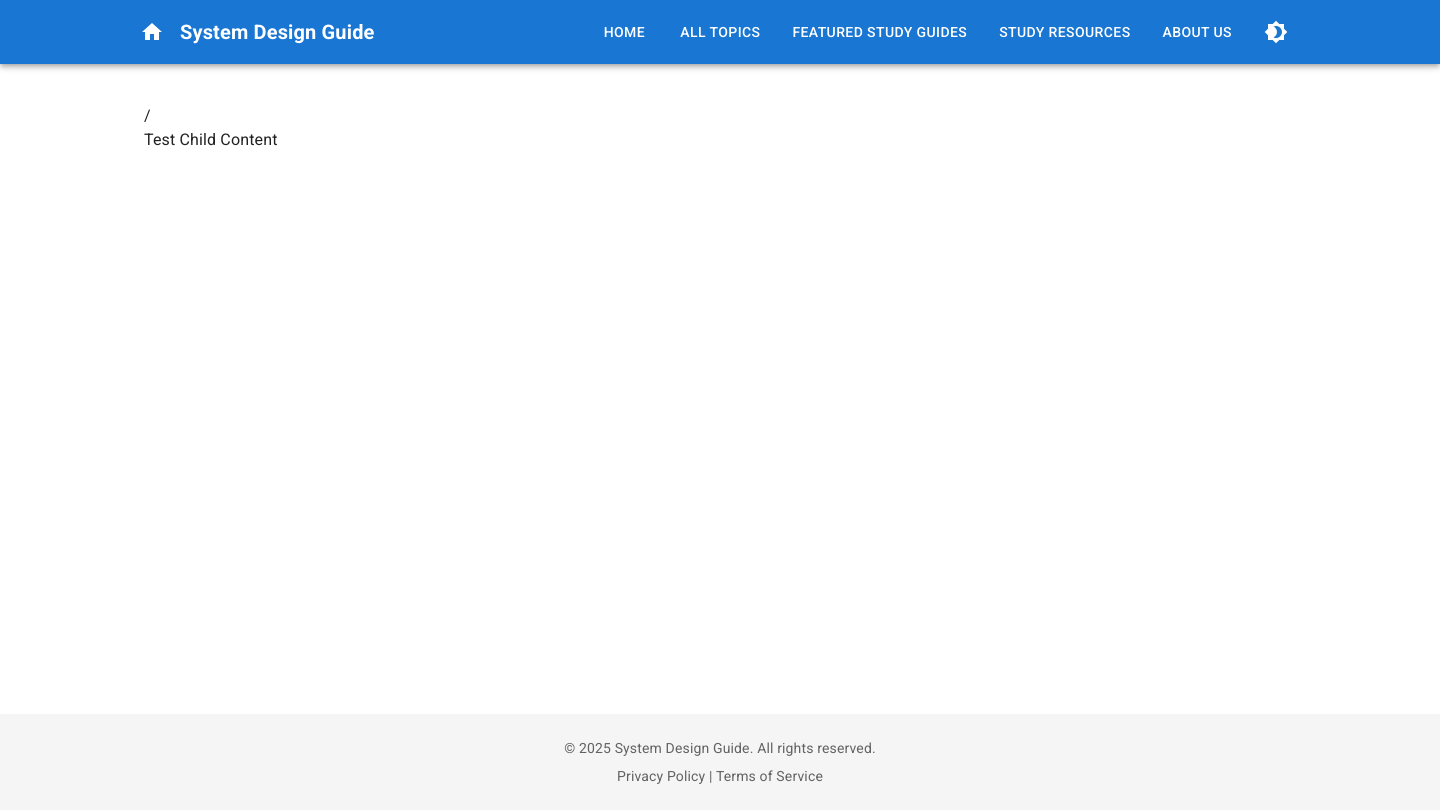
Test case: Layout Component - Navigation › navigates to an All Topics link with fragment (Client-Side Caching)
Click the button "All Topics" at (720, 32), box [672,14,768,50]
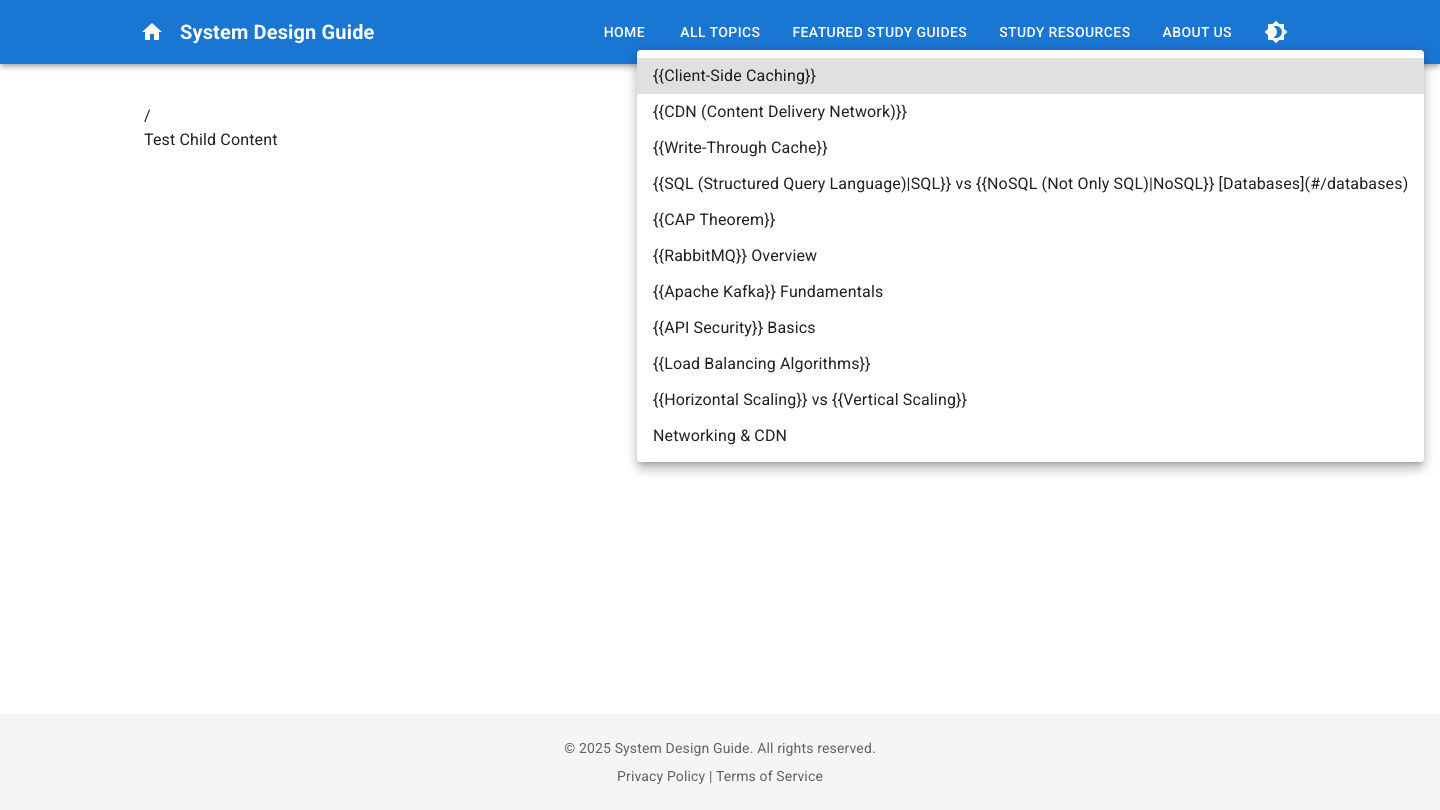
Click the menu item "{{Client-Side Caching}}" at (735, 76), box [637,58,1424,94]
(page scrolled)
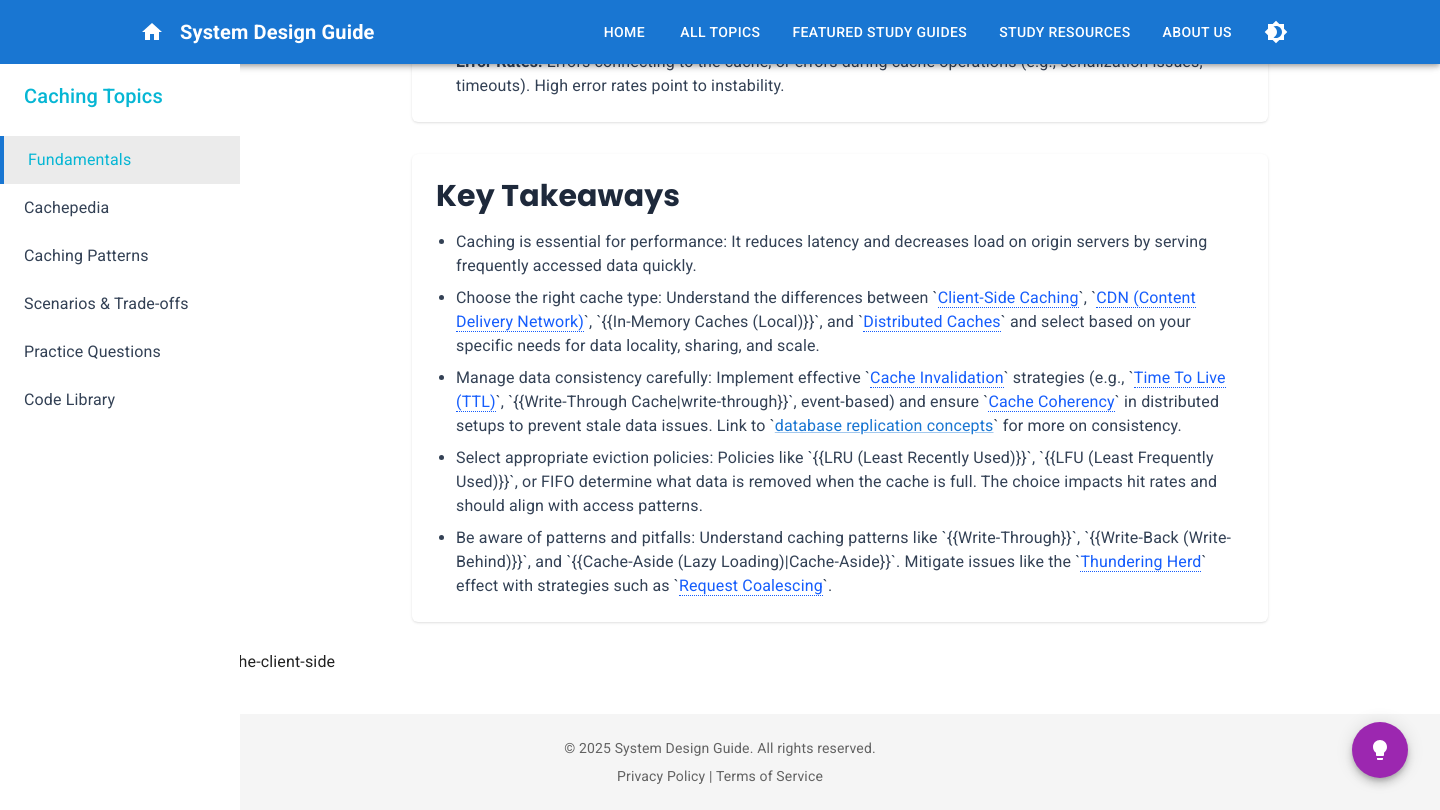
Now the text with test id "location-display" reads "/caches#cache-client-side", box [144,652,335,671]
